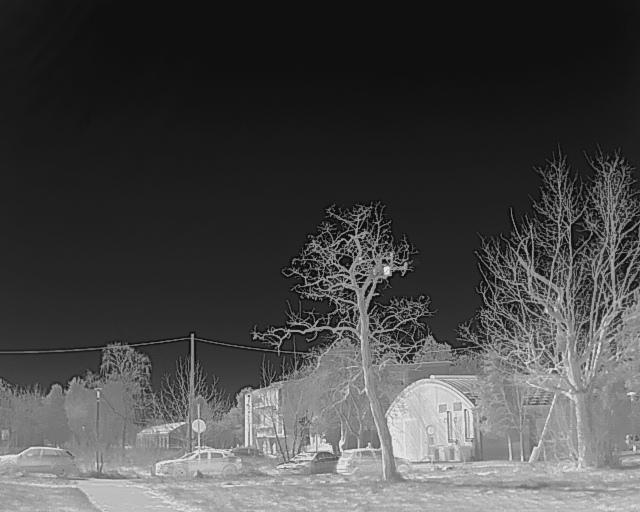drone: (360, 258, 416, 285)
